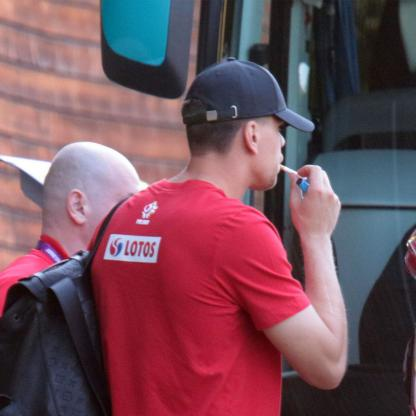cigarette: (280, 163, 298, 178)
person: (82, 56, 346, 416)
